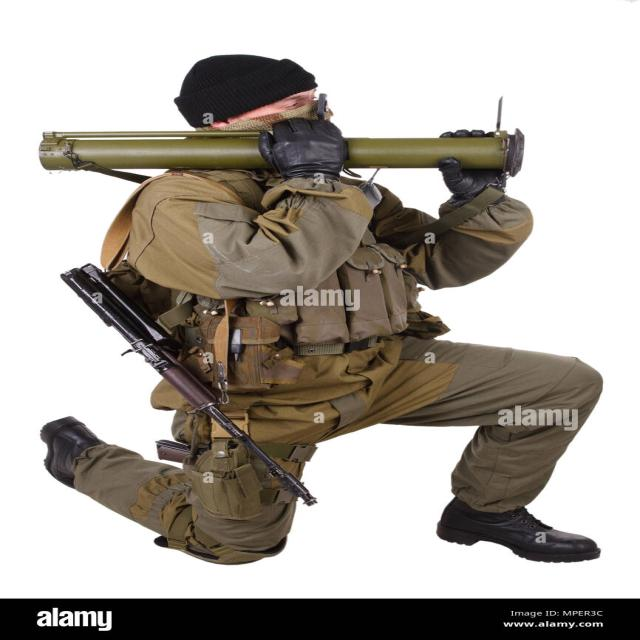bazooka: (32, 99, 537, 200)
